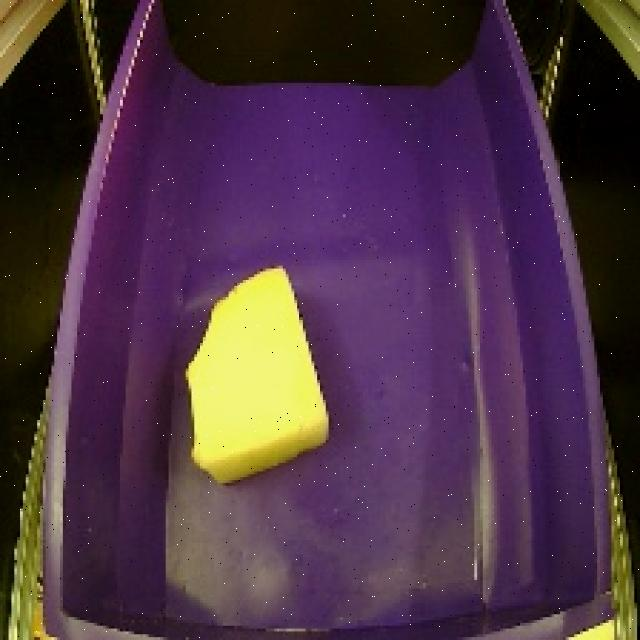potato: (174, 254, 339, 496)
